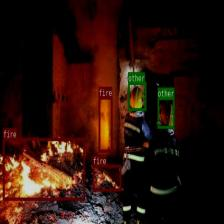fire: (3, 137, 84, 200), (98, 96, 113, 151), (93, 164, 121, 190)
